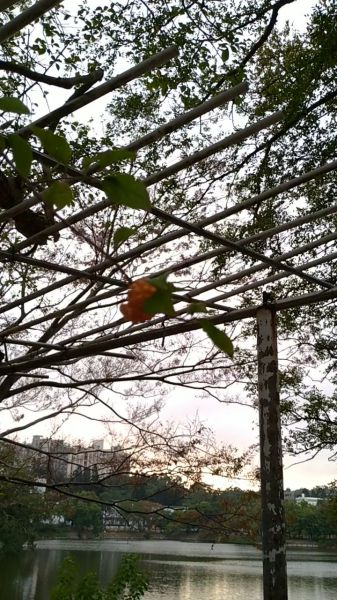eggs: (115, 274, 171, 326)
